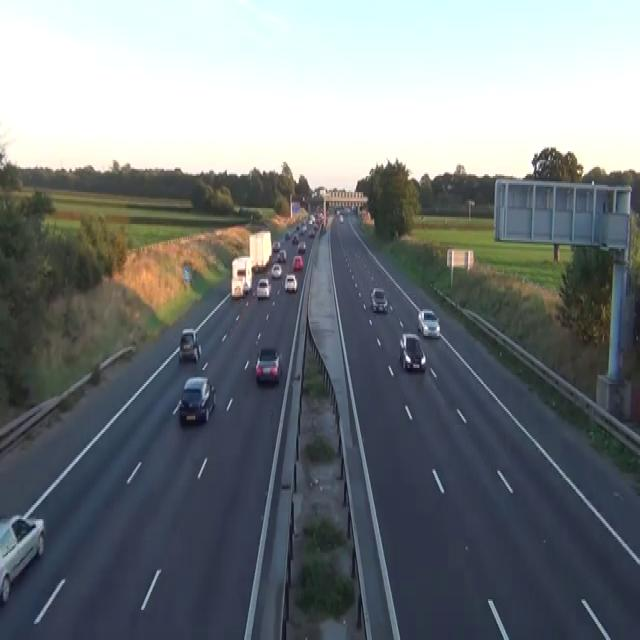Car: (0, 514, 44, 602), (179, 375, 216, 425), (399, 332, 426, 372), (255, 347, 281, 384), (178, 327, 201, 363), (417, 308, 440, 338), (370, 286, 387, 313), (256, 277, 270, 299), (231, 275, 244, 297), (284, 272, 297, 292), (292, 254, 303, 270), (183, 265, 191, 283), (271, 263, 281, 277), (297, 240, 306, 252), (277, 249, 286, 261), (243, 279, 250, 293), (272, 240, 280, 251), (308, 213, 315, 224), (291, 234, 298, 243), (300, 224, 307, 233), (335, 206, 342, 215), (284, 231, 290, 240), (320, 224, 326, 233), (308, 228, 314, 236), (313, 222, 319, 230), (339, 214, 343, 222), (295, 222, 299, 230)
Truck: (248, 229, 271, 272), (231, 256, 252, 297)
